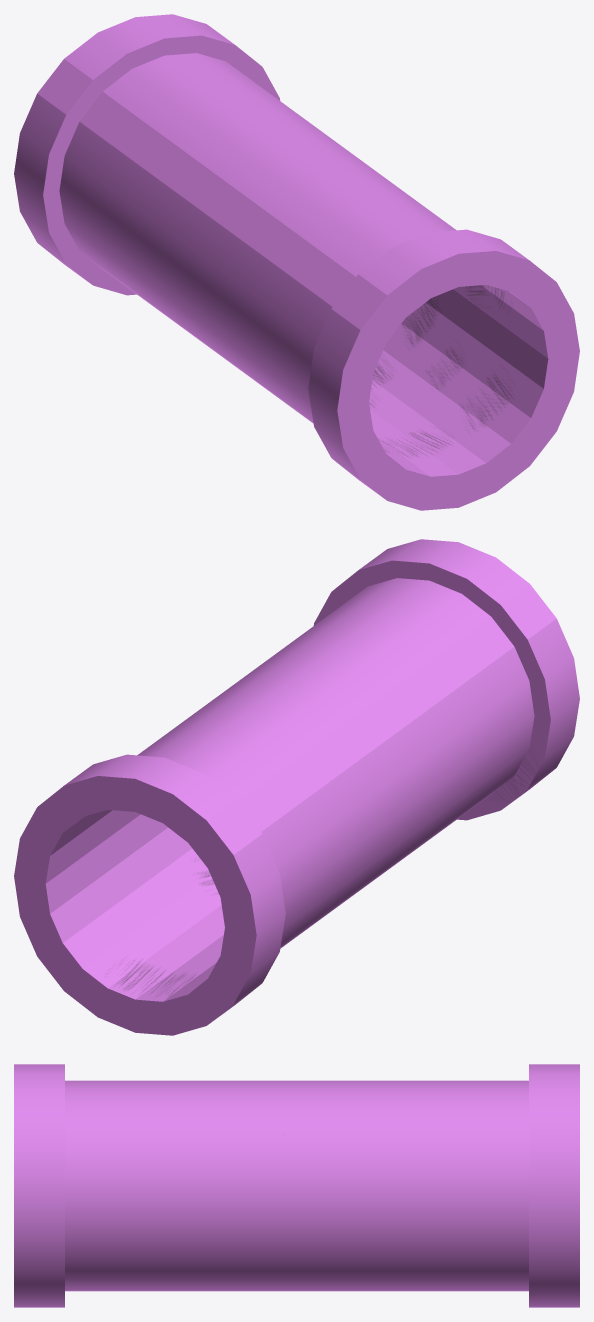
Rendered from texturedRatTube.fbx.
3 views of the same model, one above another, from view 1: azimuth 30°, elevation 25°; view 2: azimuth 150°, elevation 25°; view 3: azimuth 270°, elevation 25° (orthographic). The views are drawn at different scales.
Parts seen in each view (by area): view 1: ratTube; view 2: ratTube; view 3: ratTube.
Part boxes in pixels (x1,y1,x2,y2): ratTube: (14, 14, 579, 510); ratTube: (14, 539, 579, 1035); ratTube: (14, 1064, 579, 1307).
Bounding box in the file's own units: 17.34 × 17.34 × 40.
1 material, 1 textured.
